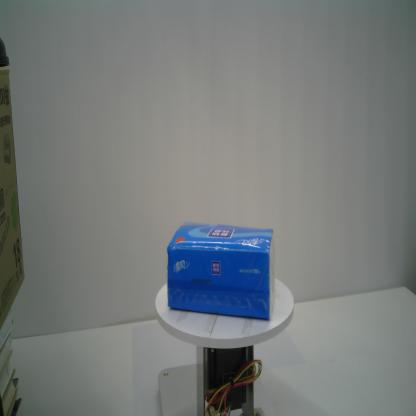Tissue: (166, 220, 277, 321)
